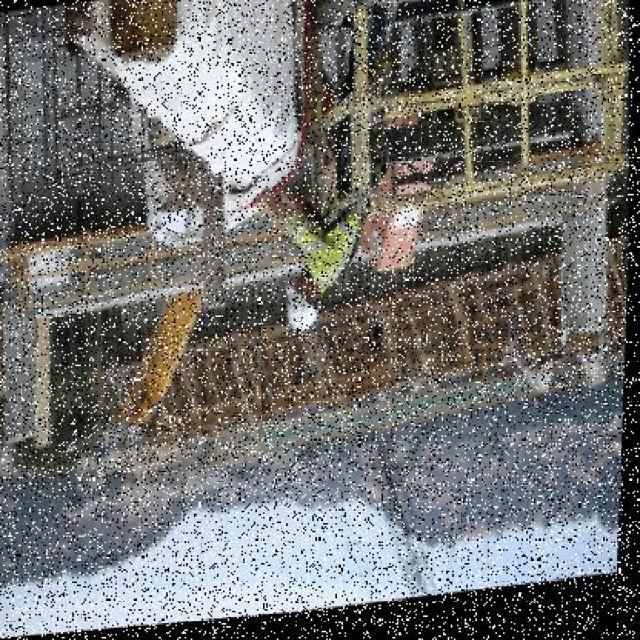helmet: (283, 280, 325, 349)
